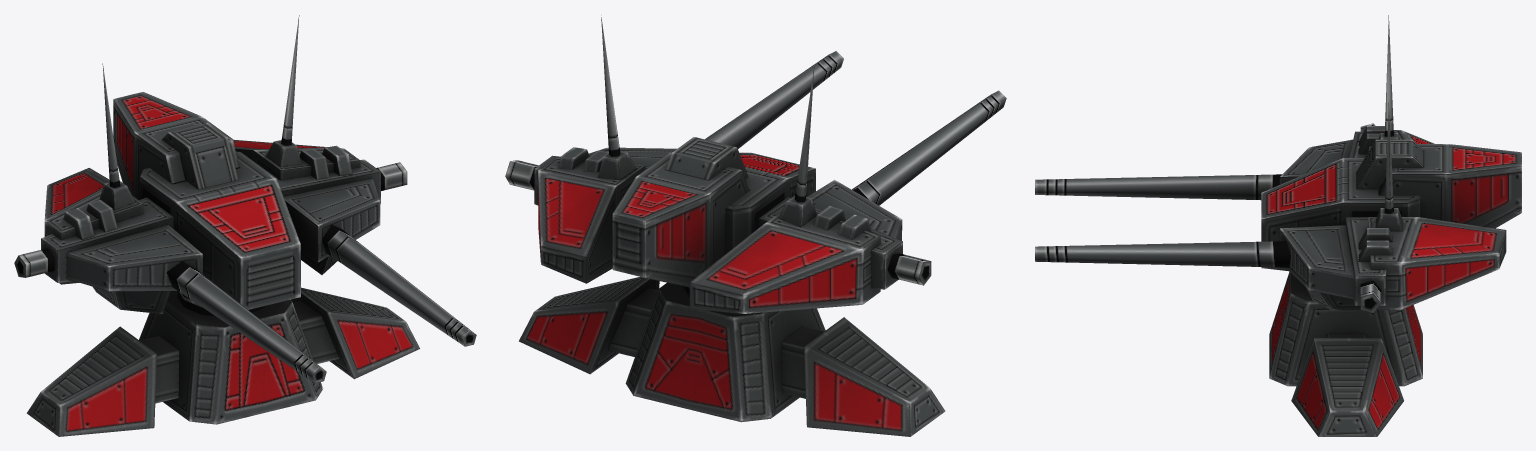
The model's file is turret_2.obj.
The picture shows the model from 3 angles, left to right: view 1: azimuth 30°, elevation 25°; view 2: azimuth 150°, elevation 25°; view 3: azimuth 270°, elevation 25°; orthographic projection. The views are drawn at different scales.
Parts seen in each view (by area): view 1: turret_2_bottom; view 2: turret_2_bottom; view 3: turret_2_bottom.
Part boxes in pixels (<box>): turret_2_bottom: <box>14,15,476,436</box>; turret_2_bottom: <box>505,17,1006,436</box>; turret_2_bottom: <box>1035,15,1521,436</box>.
Size of the model in its own units: 0.8744 by 0.7151 by 1.06.
